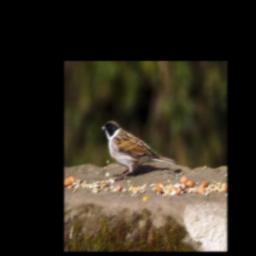Sparrow: (100, 119, 176, 179)
